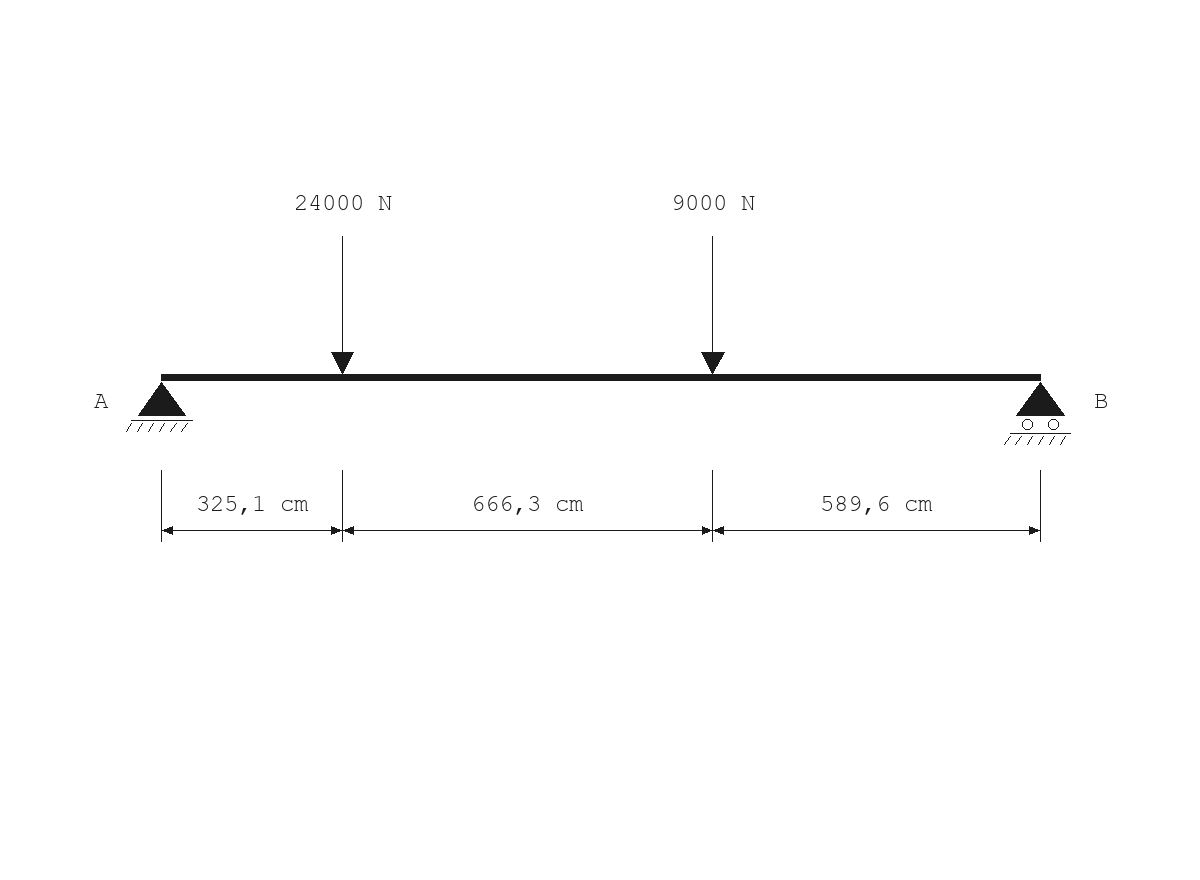pin_support: (126, 382, 193, 432)
point_load: (701, 236, 725, 374), (331, 236, 354, 374)
roller_support: (1004, 382, 1071, 445)
